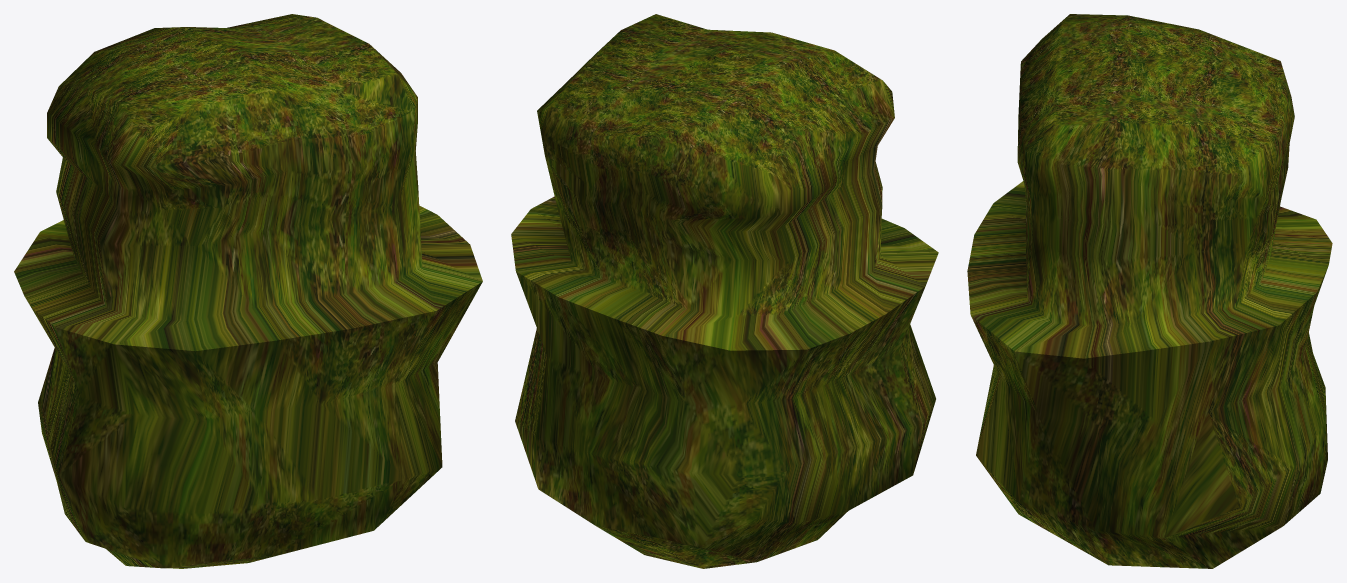
The model's file is LVL_ROAST_MUTTON_ROCK_LEDGE02.fbx.
The picture shows the model from 3 angles, left to right: view 1: azimuth 30°, elevation 25°; view 2: azimuth 150°, elevation 25°; view 3: azimuth 270°, elevation 25°; orthographic projection. The views are drawn at different scales.
Parts seen in each view (by area): view 1: LVL_ROAST_MUTTON_ROCK_LEDGE02; view 2: LVL_ROAST_MUTTON_ROCK_LEDGE02; view 3: LVL_ROAST_MUTTON_ROCK_LEDGE02.
Boxes of the visible parts, bbox=[...] form: LVL_ROAST_MUTTON_ROCK_LEDGE02: bbox=[14, 14, 482, 568]; LVL_ROAST_MUTTON_ROCK_LEDGE02: bbox=[511, 14, 938, 568]; LVL_ROAST_MUTTON_ROCK_LEDGE02: bbox=[967, 14, 1332, 568].
Bounding box in the file's own units: 89231 × 108716 × 74033.
1 material, 1 textured.
